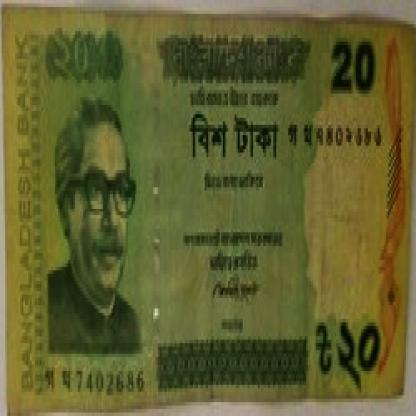Twenty: (163, 111, 288, 170), (318, 315, 393, 392), (43, 28, 130, 94), (326, 31, 380, 104)
